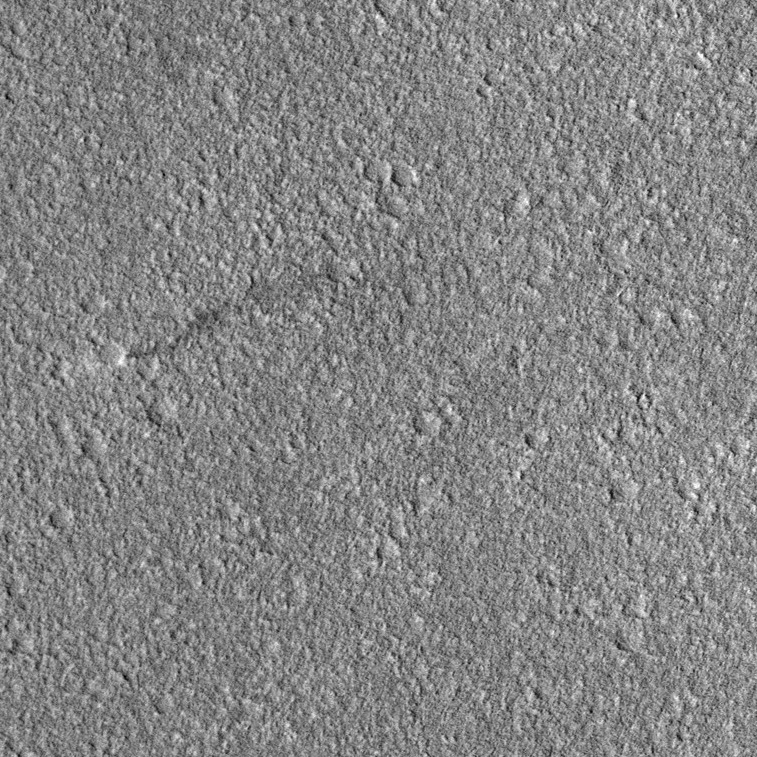dust_devil: (54, 296, 263, 388)
